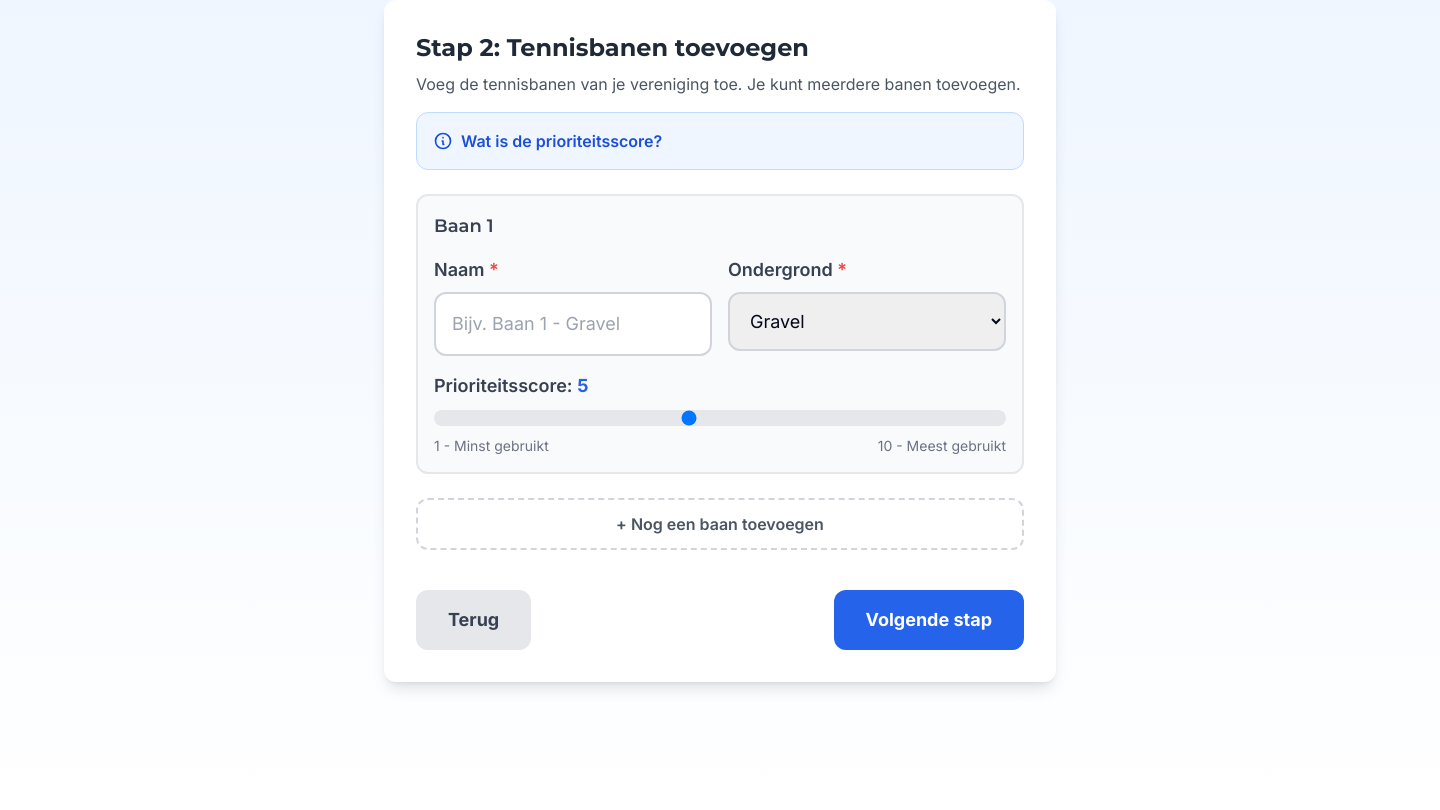
Test case: CourtsStep › Submit courts › should show API error on save failure
Type "Baan 1 - Gravel" into the field labelled "Naam *" at (573, 324), box [434,292,712,356]
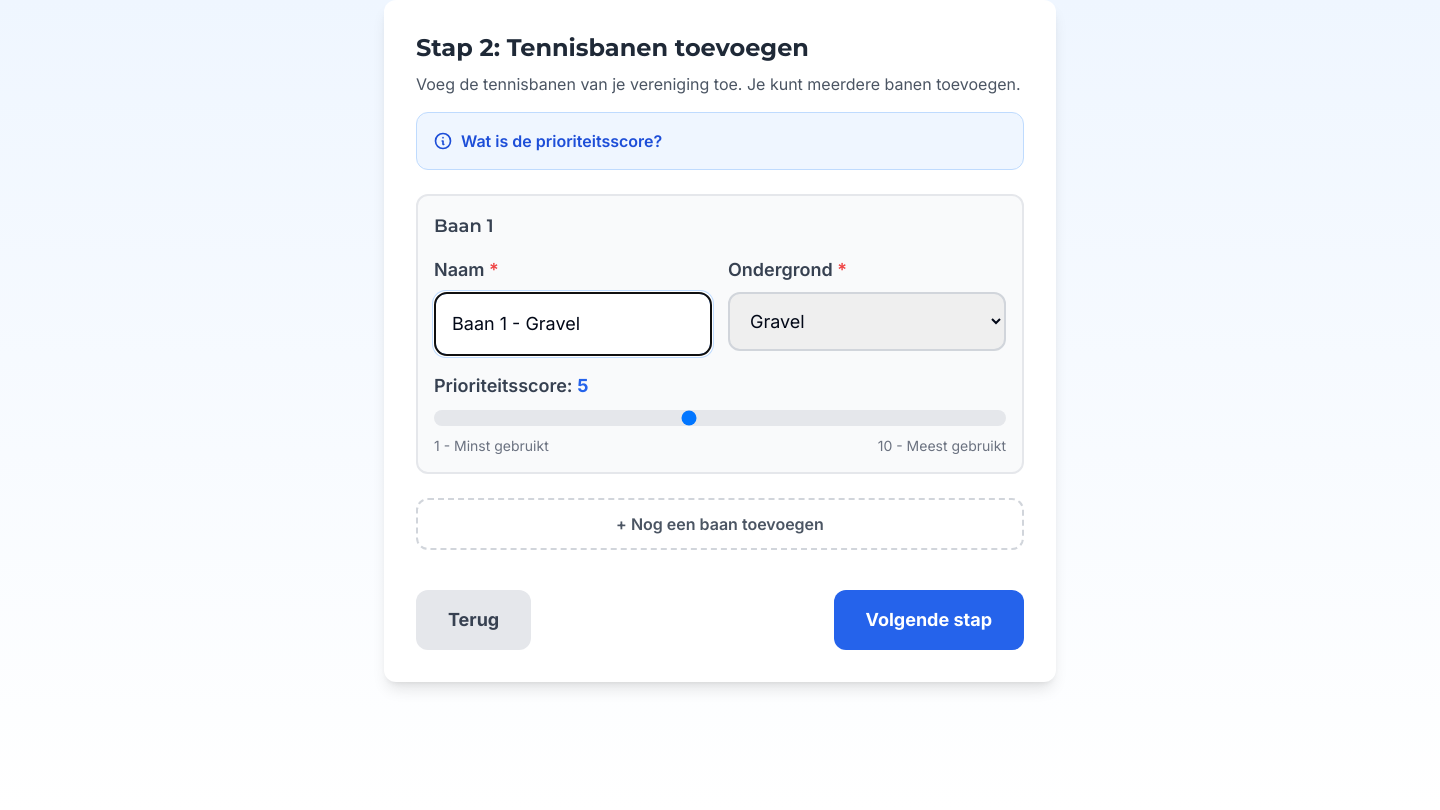
Click the button "Volgende stap" at (929, 620), box [834,590,1024,650]
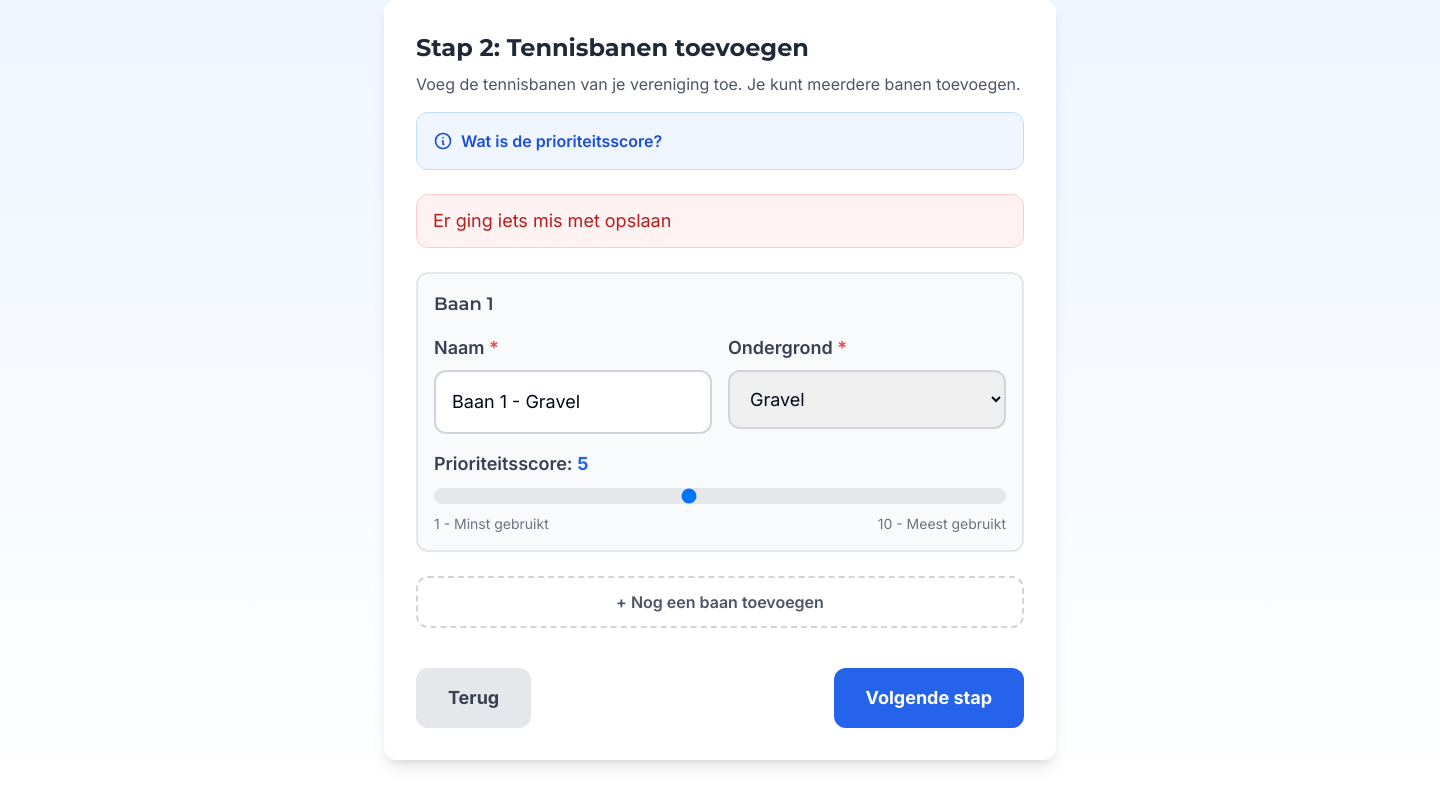
Now the text "Er ging iets mis met opslaan" is shown, box [416,194,1024,248]
